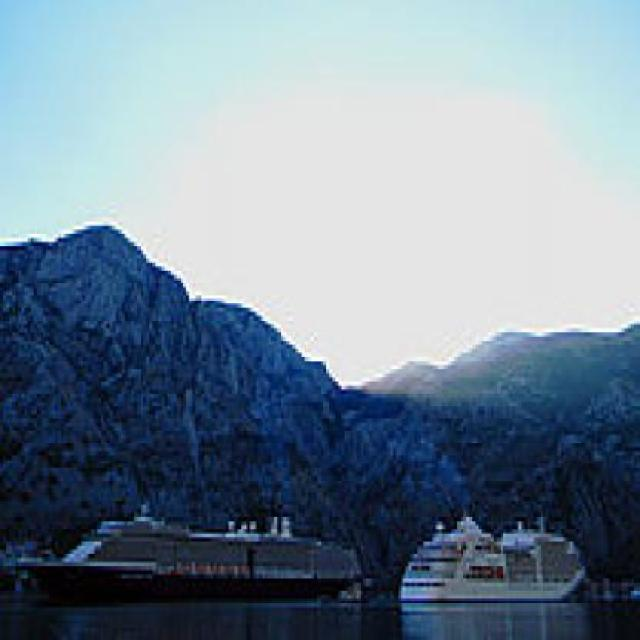cruise: (17, 493, 371, 621), (397, 509, 596, 605)
